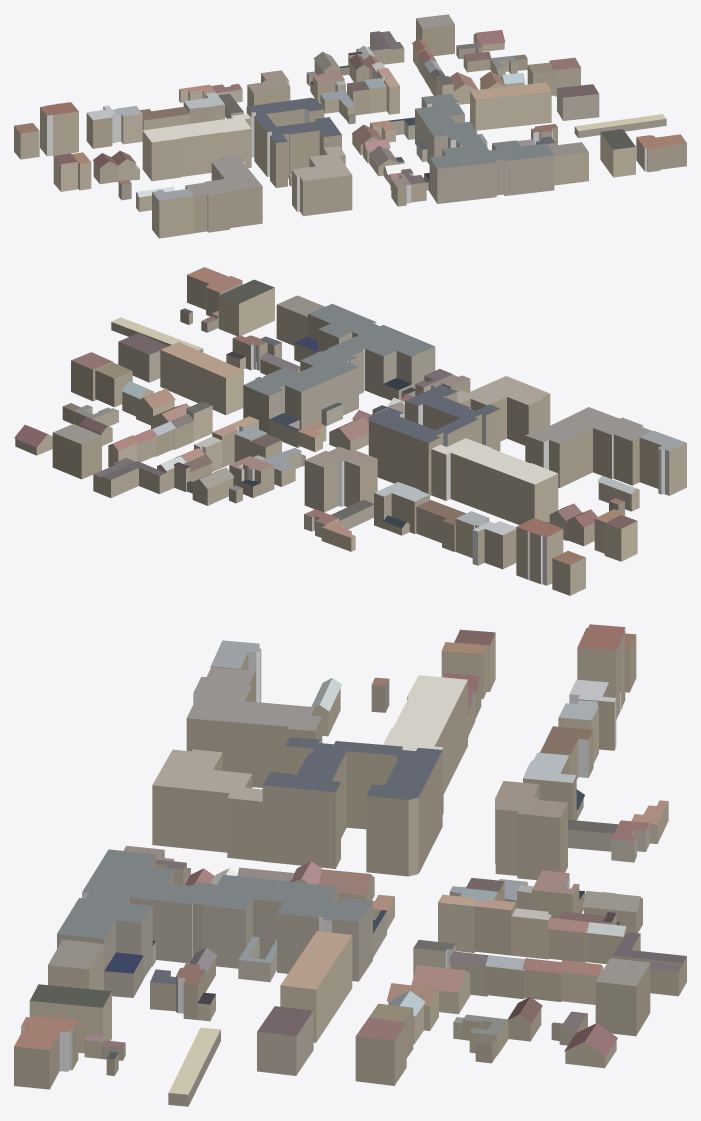
The picture shows the model from 3 angles, top to bottom: view 1: azimuth 30°, elevation 25°; view 2: azimuth 150°, elevation 25°; view 3: azimuth 270°, elevation 25°; orthographic projection. The views are drawn at different scales.
Parts seen in each view (by area): view 1: tuile; view 2: tuile; view 3: tuile.
Boxes of the visible parts, x1,y1,x2,y2 form: tuile: (14, 14, 686, 238); tuile: (14, 267, 686, 595); tuile: (14, 624, 686, 1106).
Bounding box in the file's own units: 272 × 24.45 × 179.
